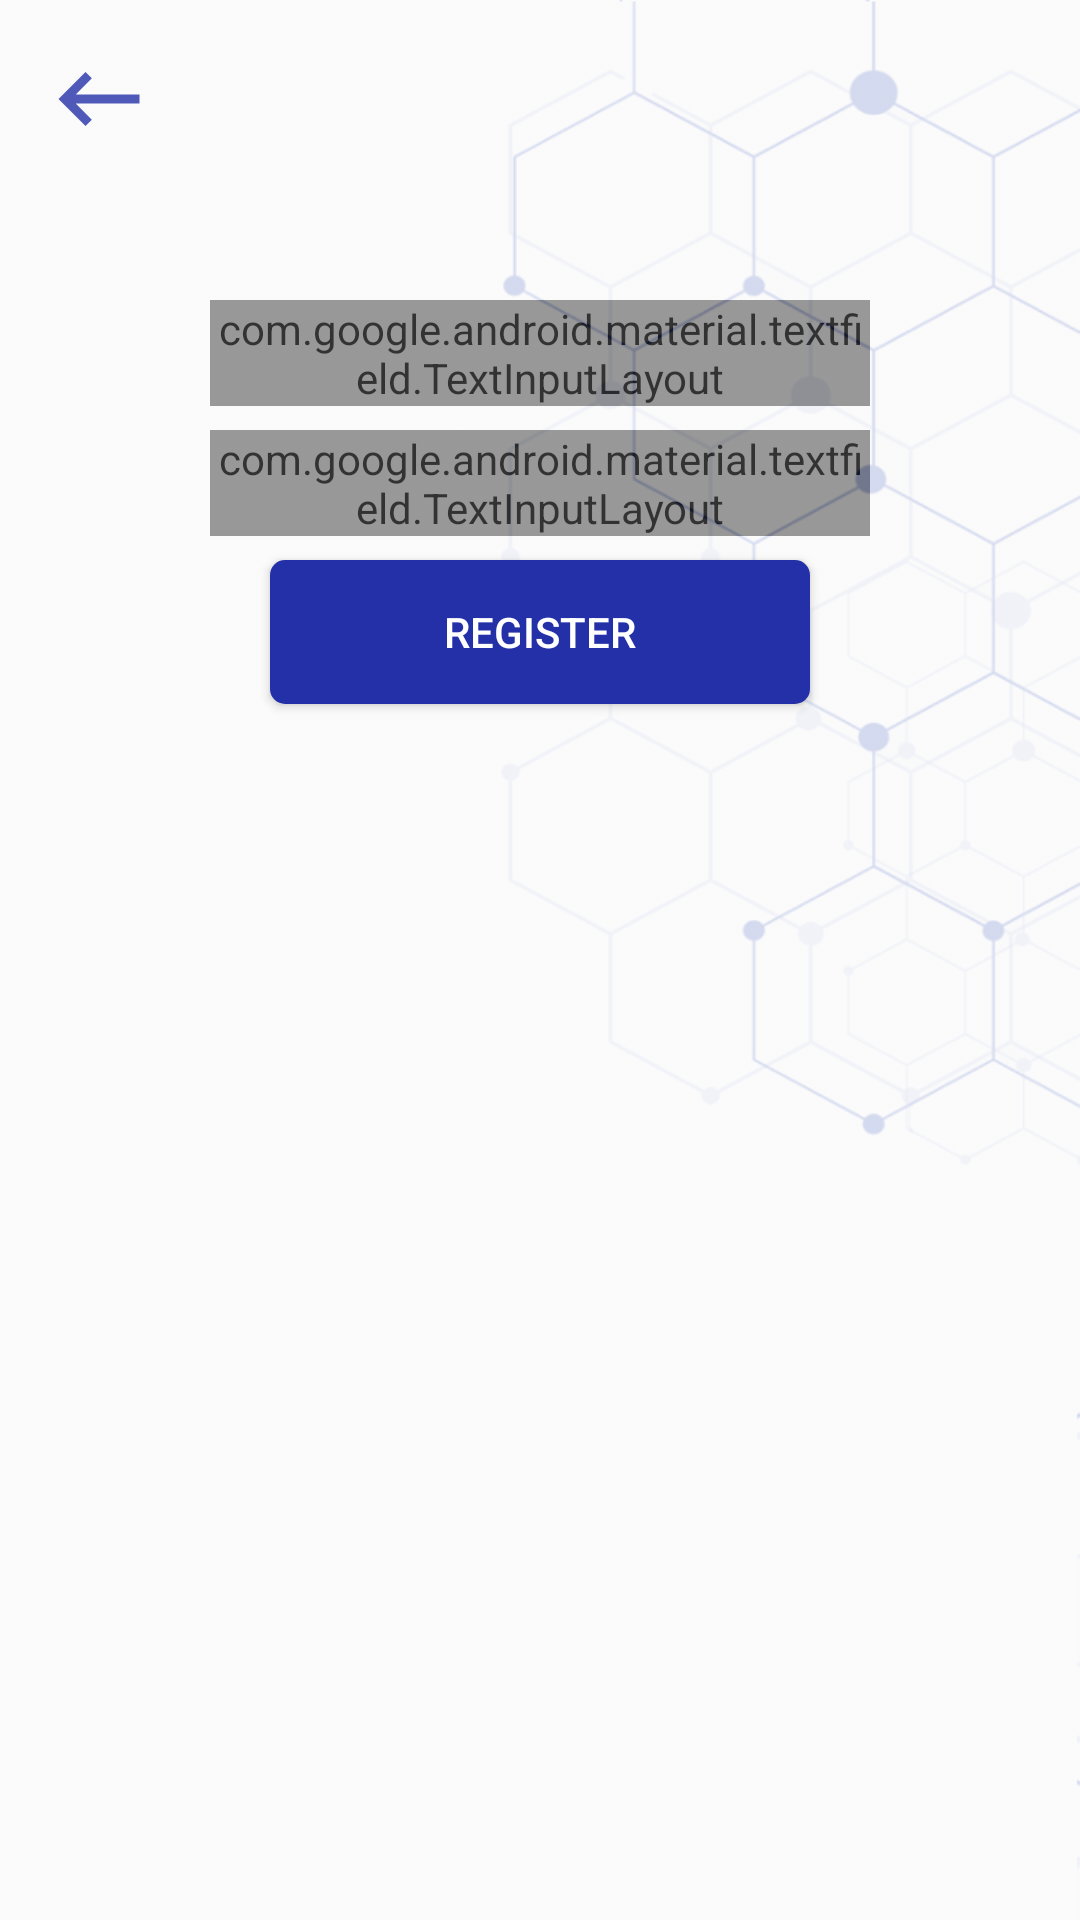

Icons on this 1080×1920 Android screen, each with the point to tap as (x,y):
backspace register: (99,99)
